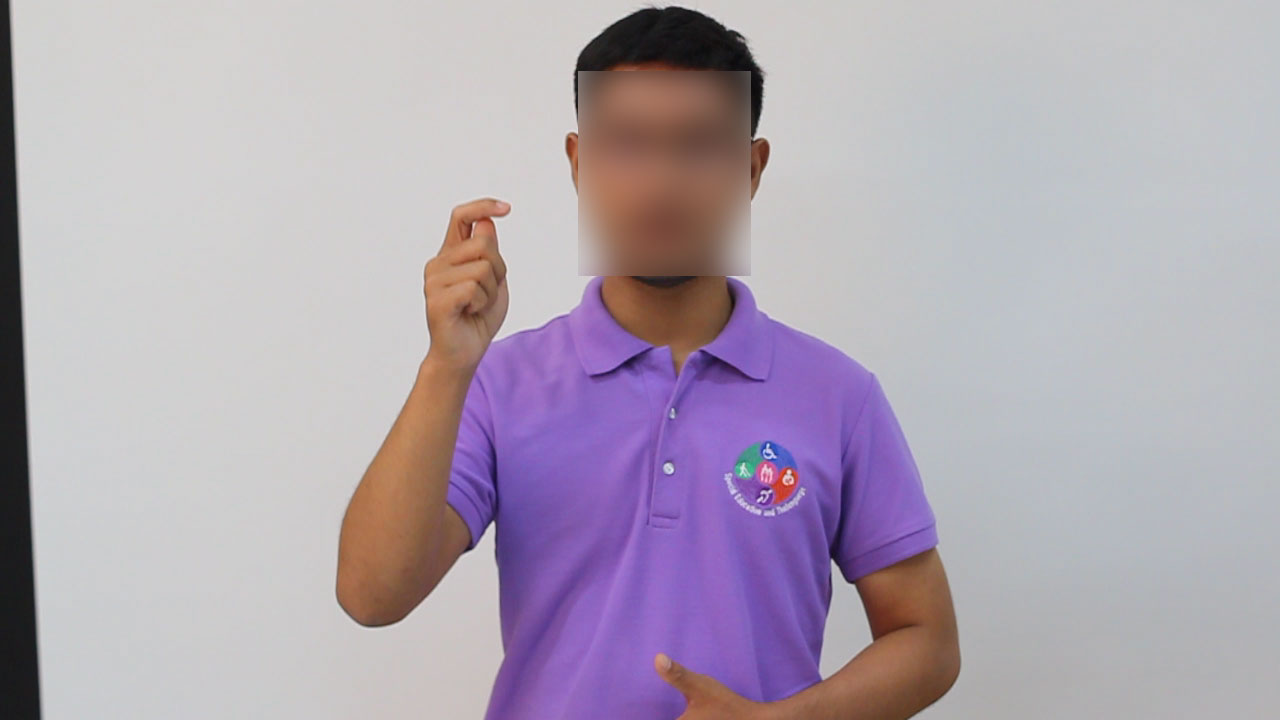or: (413, 182, 523, 384)
